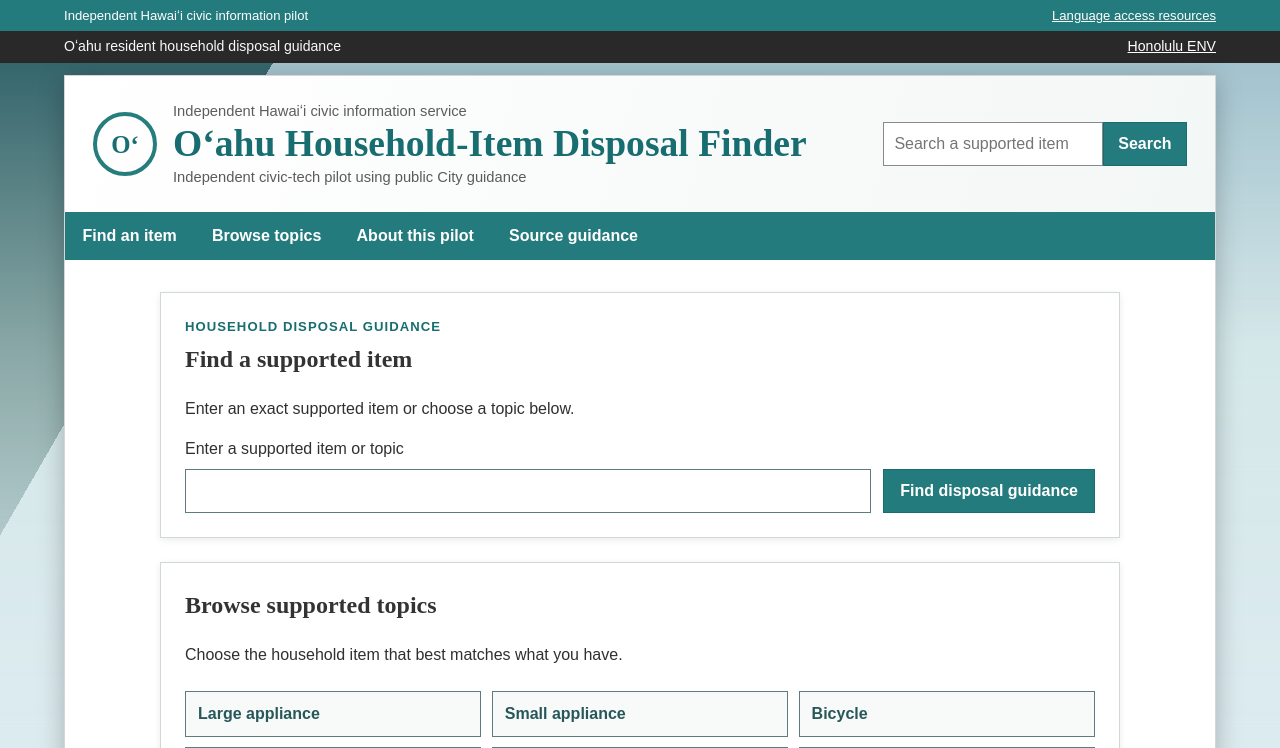
topic browse › shows a safe, source-backed no-match state for an unsupported input
Type "mystery household item" into the search field labelled "Enter a supported item or topic". click: (528, 491)
box: [185,469,871,513]
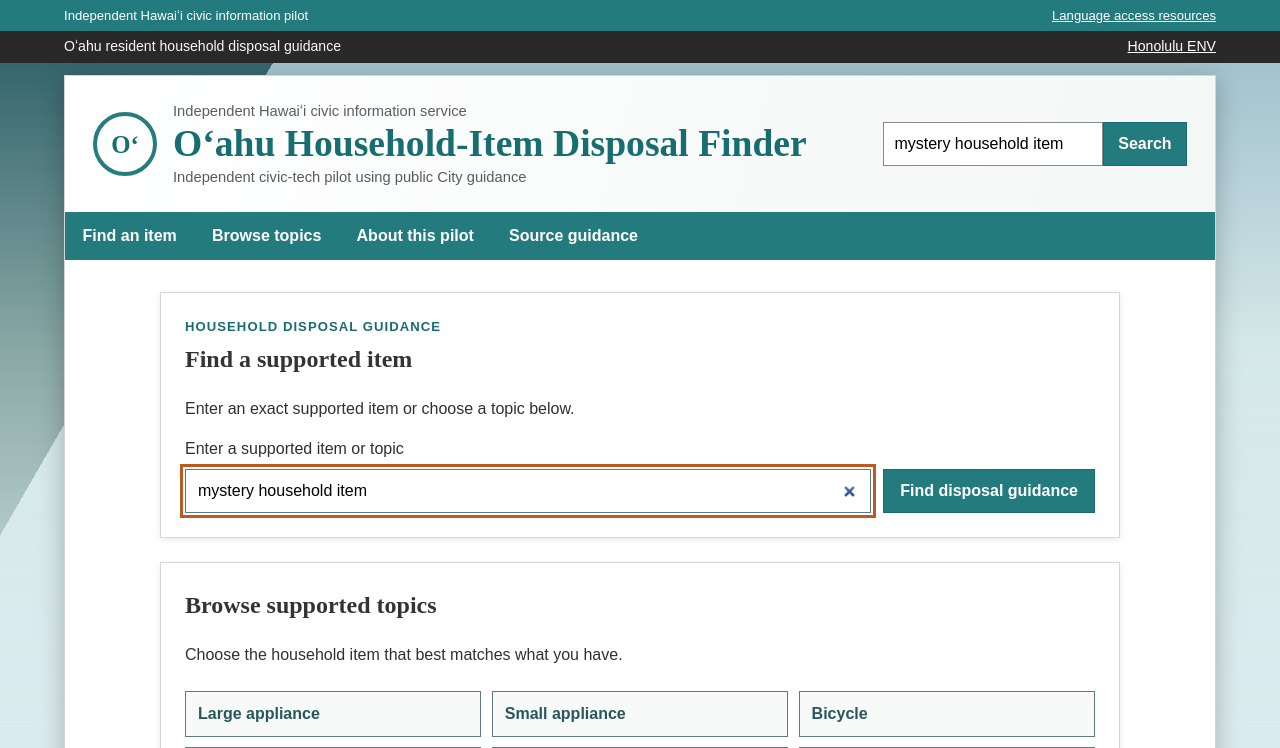
Click the button "Search". click: (1145, 144)
box: [1103,122,1187,166]
(page scrolled)
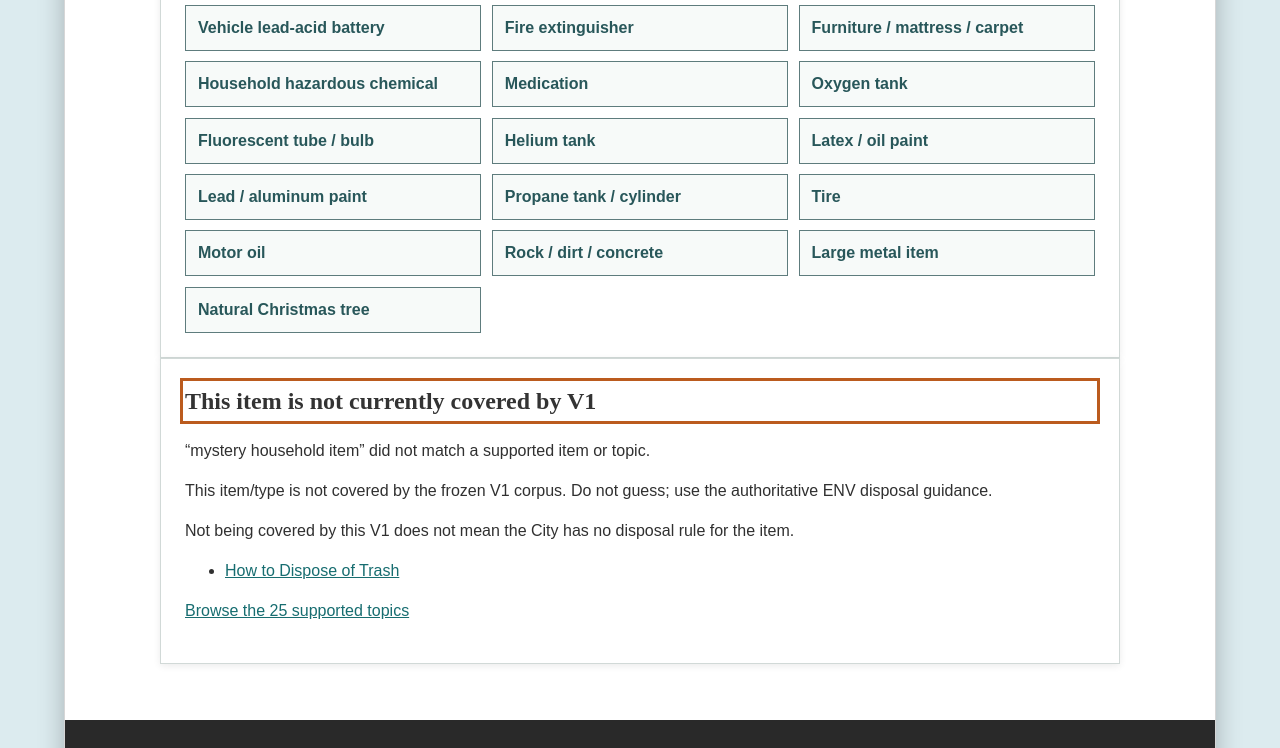
Now the heading "This item is not currently covered by V1" is shown, box [185,388,596,414]
Now the text "does not mean the City has no disposal rule" is shown, box [185,522,794,539]
